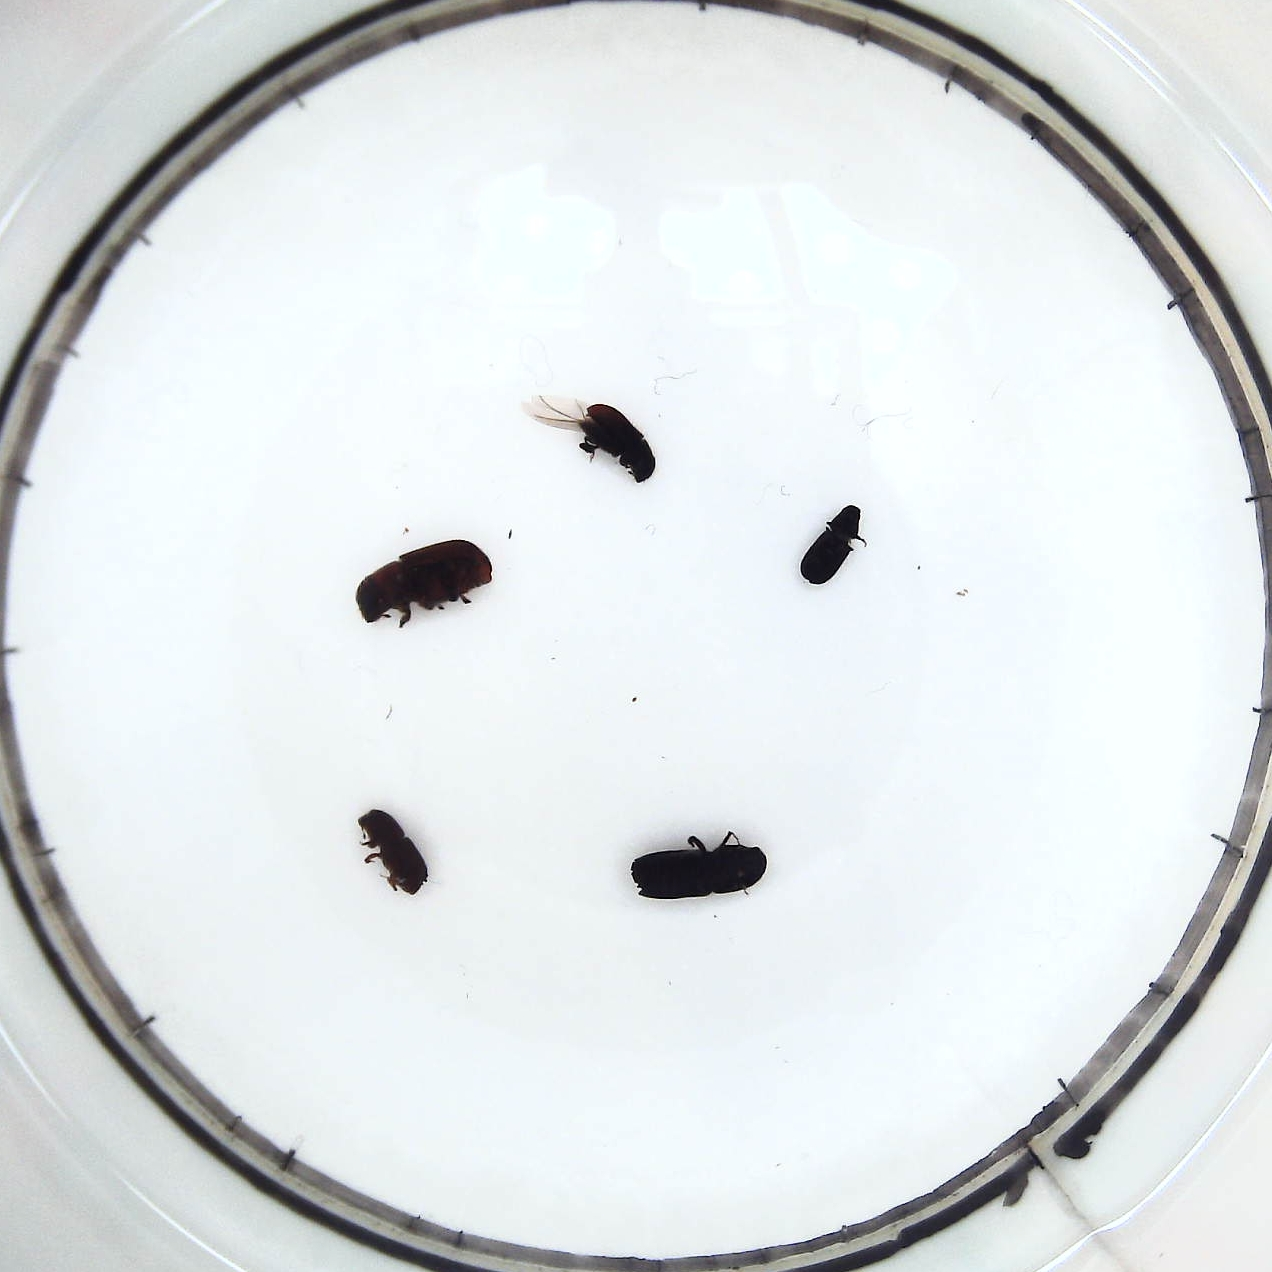Boerner: (627, 831, 766, 904)
Leconte: (356, 537, 499, 634)
armandi: (516, 400, 657, 485)
coleoptera: (796, 495, 869, 591)
linnaeus: (349, 807, 430, 900)
